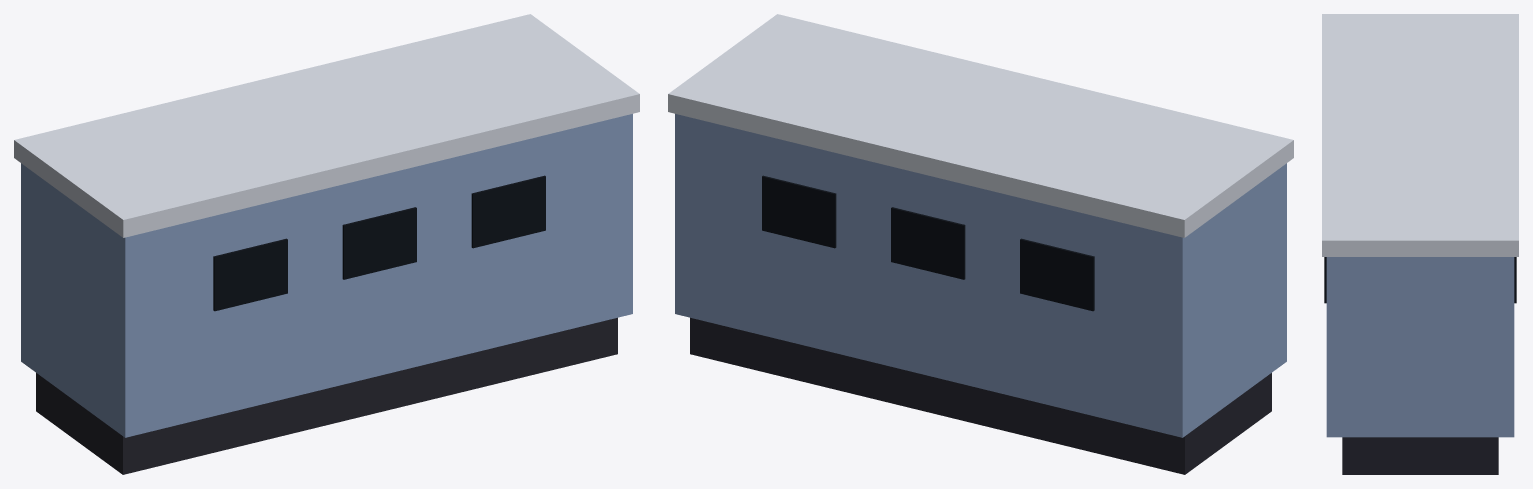
Rendered from train_wagon.obj.
The picture shows the model from 3 angles, left to right: view 1: azimuth 30°, elevation 25°; view 2: azimuth 150°, elevation 25°; view 3: azimuth 270°, elevation 25°; orthographic projection. The views are drawn at different scales.
Size of the model in its own units: 2.4 by 1.18 by 0.88.
